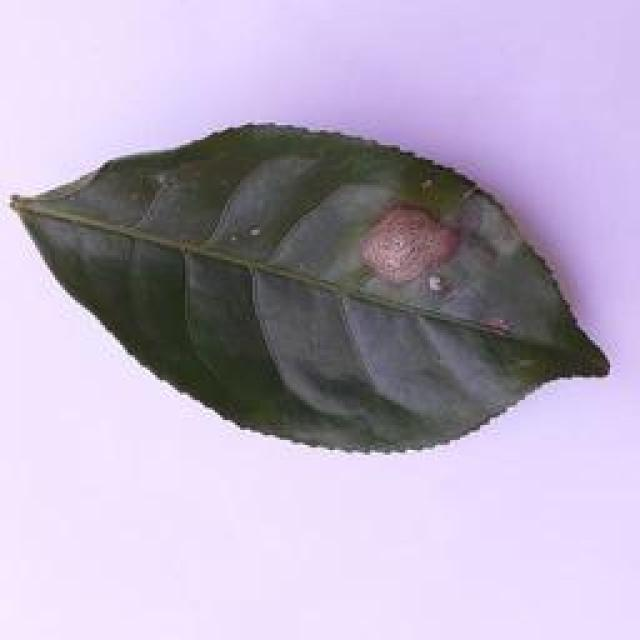Gray Blight: (22, 120, 608, 454)
